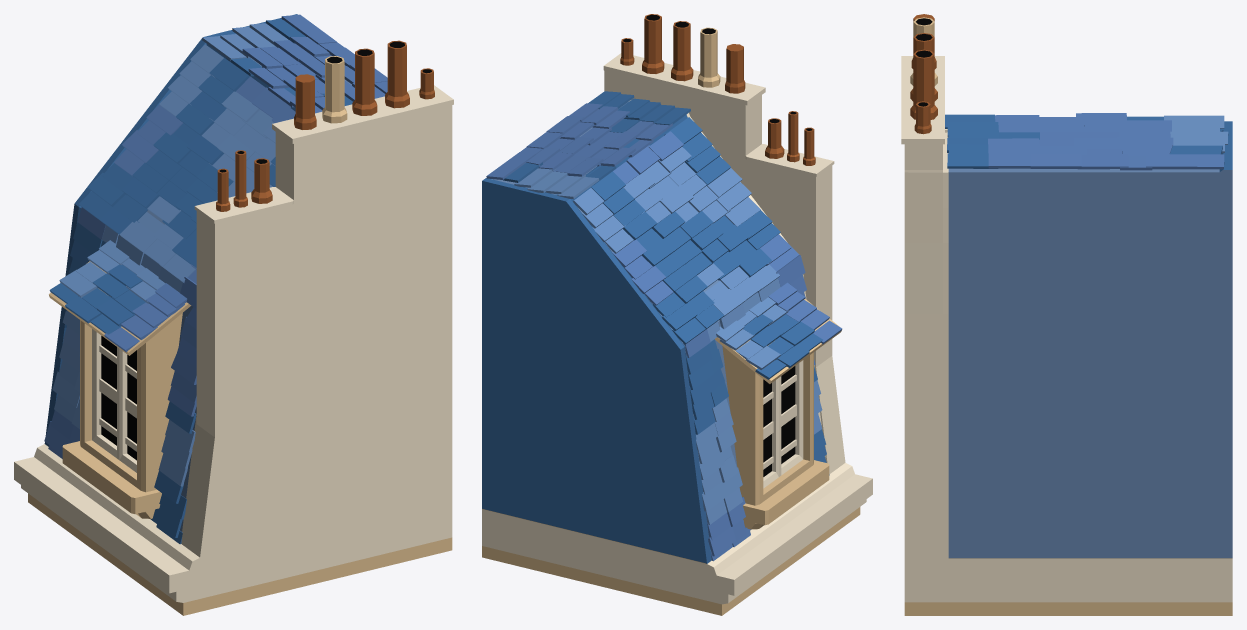
Rendered from RoofEdge_B_1.fbx.
The picture shows the model from 3 angles, left to right: view 1: azimuth 30°, elevation 25°; view 2: azimuth 150°, elevation 25°; view 3: azimuth 270°, elevation 25°; orthographic projection. The views are drawn at different scales.
Visible parts, largest first — view 1: RoofEdge_B_1; view 2: RoofEdge_B_1; view 3: RoofEdge_B_1.
Boxes of the visible parts, <box> form: RoofEdge_B_1: <box>14,14,453,615</box>; RoofEdge_B_1: <box>482,14,872,615</box>; RoofEdge_B_1: <box>901,14,1232,615</box>.
Bounding box in the file's own units: 215 × 202 × 362.
